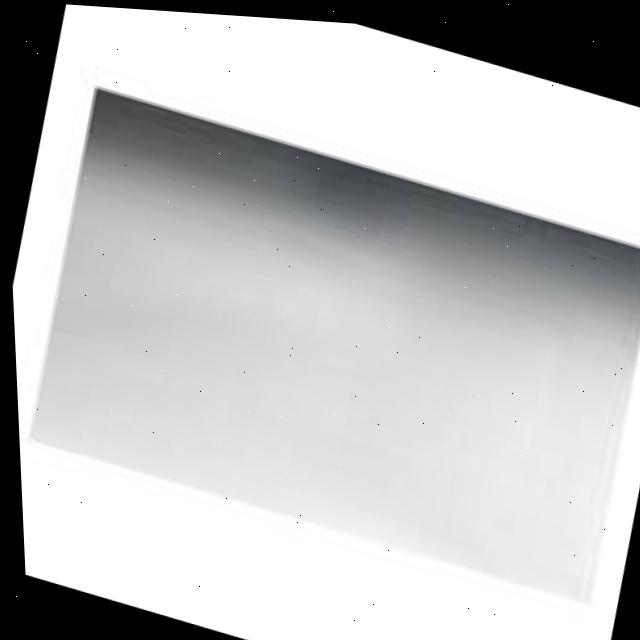Dry: (23, 86, 640, 597)
